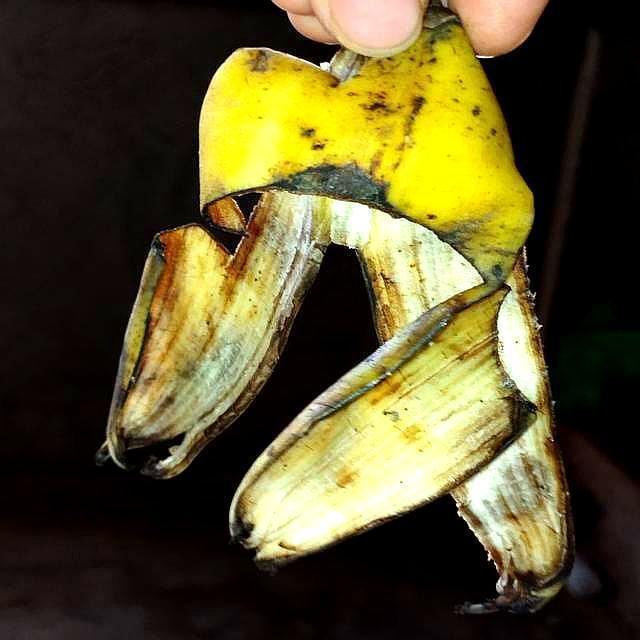Biodegradable: (119, 39, 575, 585)
